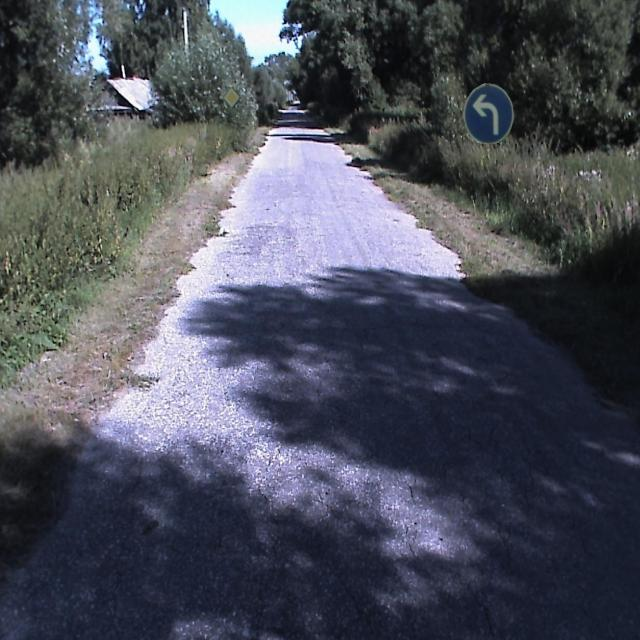road: (0, 105, 639, 639)
